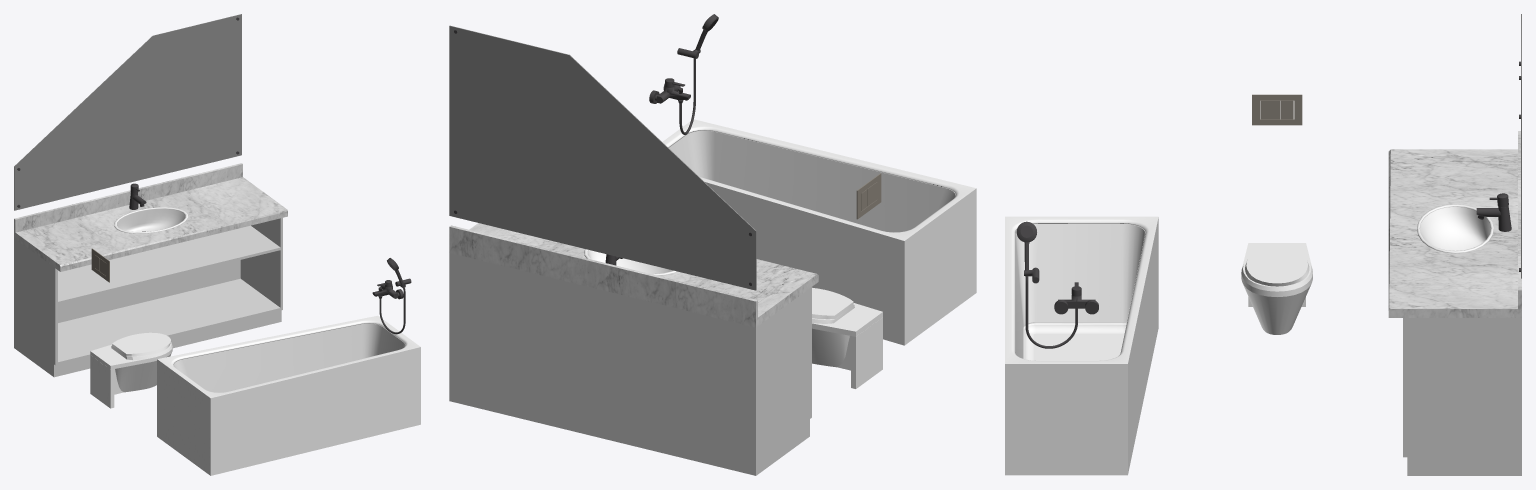
Rendered from Bathroom_upstairs.FBX.
The picture shows the model from 3 angles, left to right: view 1: azimuth 30°, elevation 25°; view 2: azimuth 150°, elevation 25°; view 3: azimuth 270°, elevation 25°; orthographic projection. The views are drawn at different scales.
Visible parts, largest first — view 1: Bathtub, Sink_upstairs, Mirror_upstairs, Sink_plate, Toilet_upstairs, Sink; view 2: Sink_upstairs, Mirror_upstairs, Bathtub, Sink_plate, Toilet_upstairs, Sink; view 3: Bathtub, Sink_upstairs, Sink_plate, Toilet_upstairs, Sink.
Part boxes in pixels (left/top/right/bottom): Bathtub: left=157, top=258, right=420, bottom=475; Sink_upstairs: left=14, top=183, right=282, bottom=377; Mirror_upstairs: left=14, top=14, right=241, bottom=210; Sink_plate: left=14, top=163, right=287, bottom=271; Toilet_upstairs: left=90, top=248, right=172, bottom=408; Sink: left=114, top=207, right=188, bottom=233; Sink_upstairs: left=449, top=253, right=811, bottom=475; Mirror_upstairs: left=449, top=25, right=756, bottom=290; Bathtub: left=649, top=14, right=976, bottom=345; Sink_plate: left=449, top=223, right=818, bottom=327; Toilet_upstairs: left=812, top=173, right=882, bottom=388; Sink: left=584, top=249, right=677, bottom=275; Bathtub: left=1005, top=216, right=1158, bottom=475; Sink_upstairs: left=1403, top=193, right=1521, bottom=475; Sink_plate: left=1388, top=131, right=1521, bottom=317; Toilet_upstairs: left=1241, top=94, right=1312, bottom=334; Sink: left=1417, top=204, right=1493, bottom=253.
Size of the model in its own units: 72.47 by 84.73 by 99.34.
